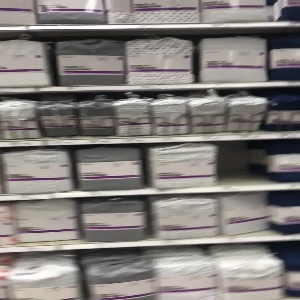void: (216, 137, 272, 188)
